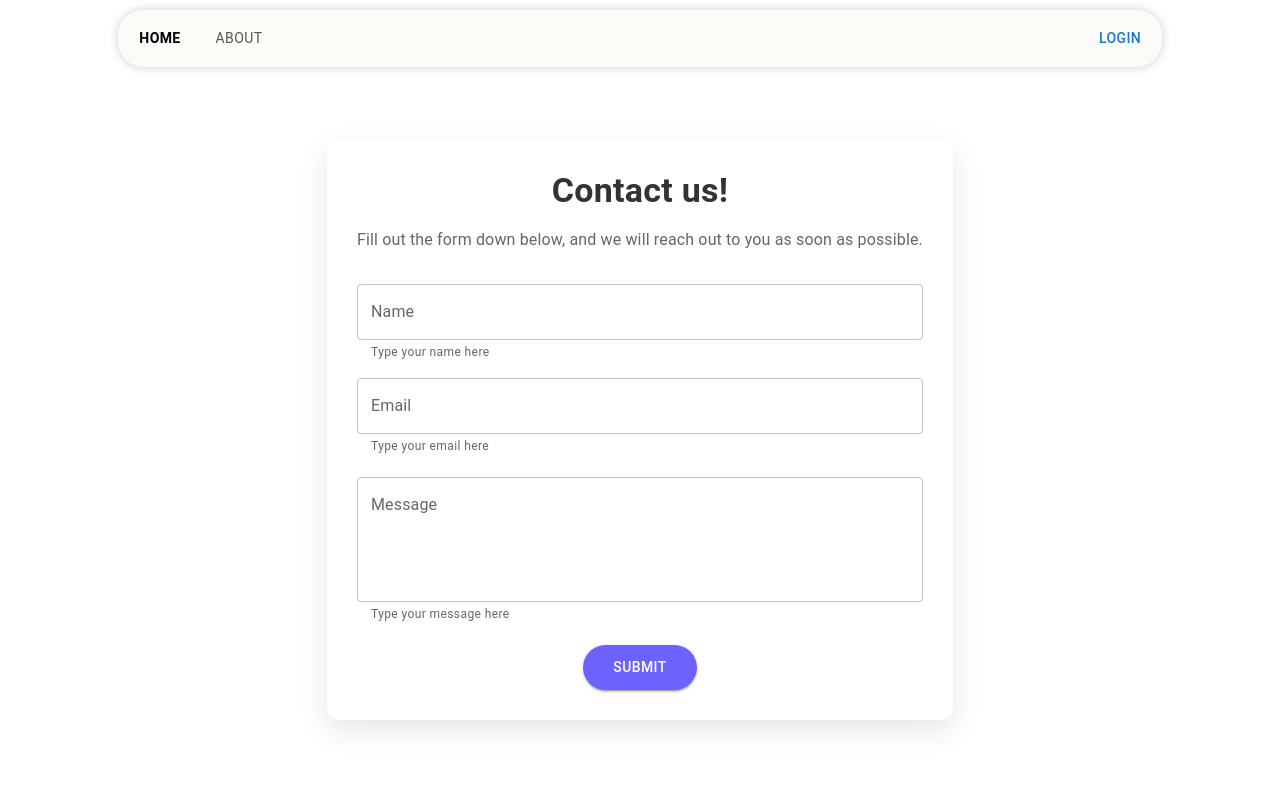
contact us form testing › show "required" validation if fields are empty
The width and height of the screenshot is (1280, 800).
Click the button with test id "submit".
click(640, 667)  # box [583,645,697,690]
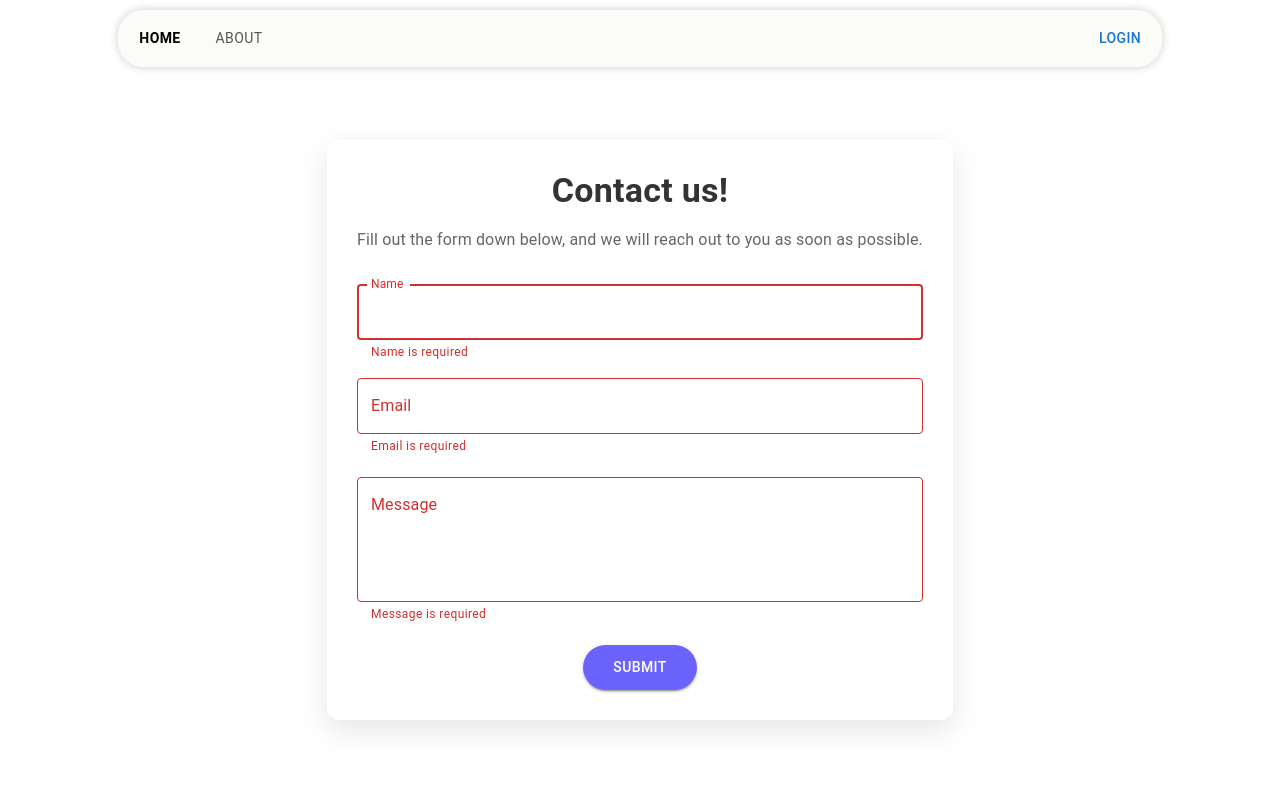
Result: the text "Name is required" is shown at [371,345,468,359]
Result: the text "Email is required" is shown at [371,439,466,453]
Result: the text "Message is required" is shown at [371,607,486,621]
